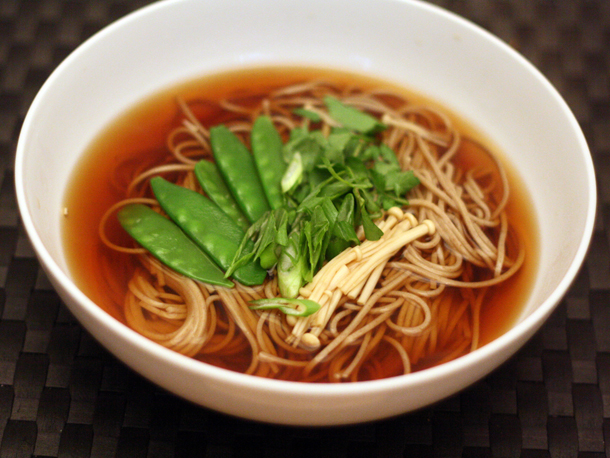Soba: (113, 84, 512, 373)
